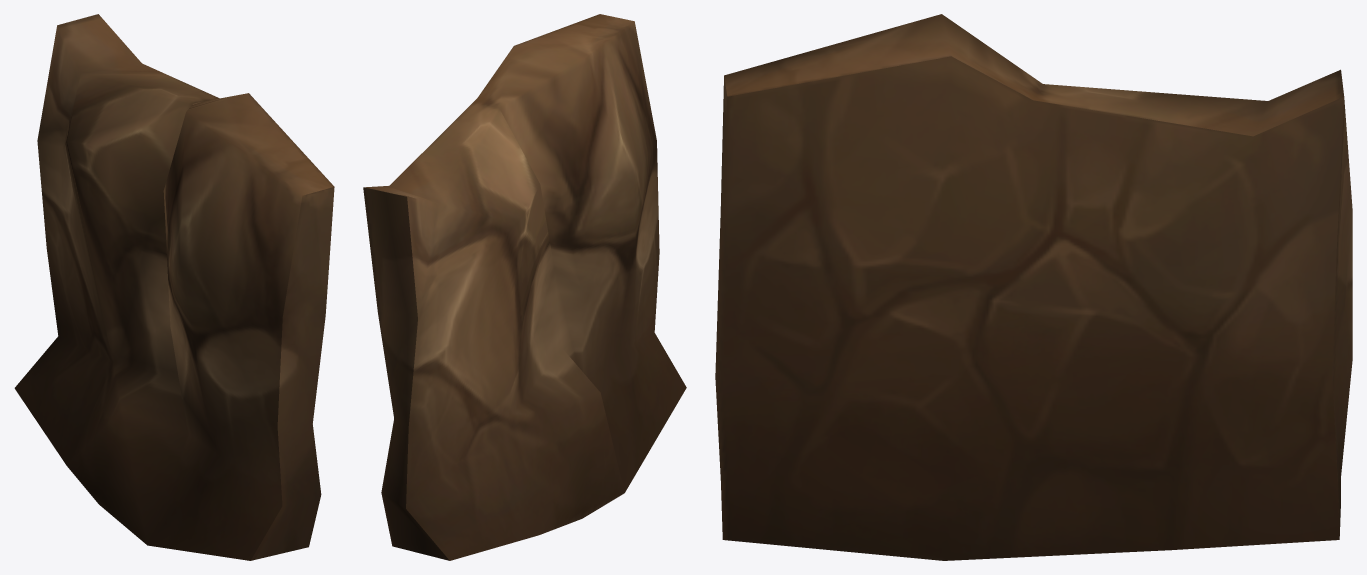
File: Wall_cave_04.fbx
The picture shows the model from 3 angles, left to right: view 1: azimuth 30°, elevation 25°; view 2: azimuth 150°, elevation 25°; view 3: azimuth 270°, elevation 25°; orthographic projection. The views are drawn at different scales.
Visible parts, largest first — view 1: Wall_cave_04; view 2: Wall_cave_04; view 3: Wall_cave_04.
Part boxes in pixels (<box>): Wall_cave_04: <box>14,14,334,560</box>; Wall_cave_04: <box>363,14,686,560</box>; Wall_cave_04: <box>715,14,1352,560</box>.
Size of the model in its own units: 129 by 406 by 424.
